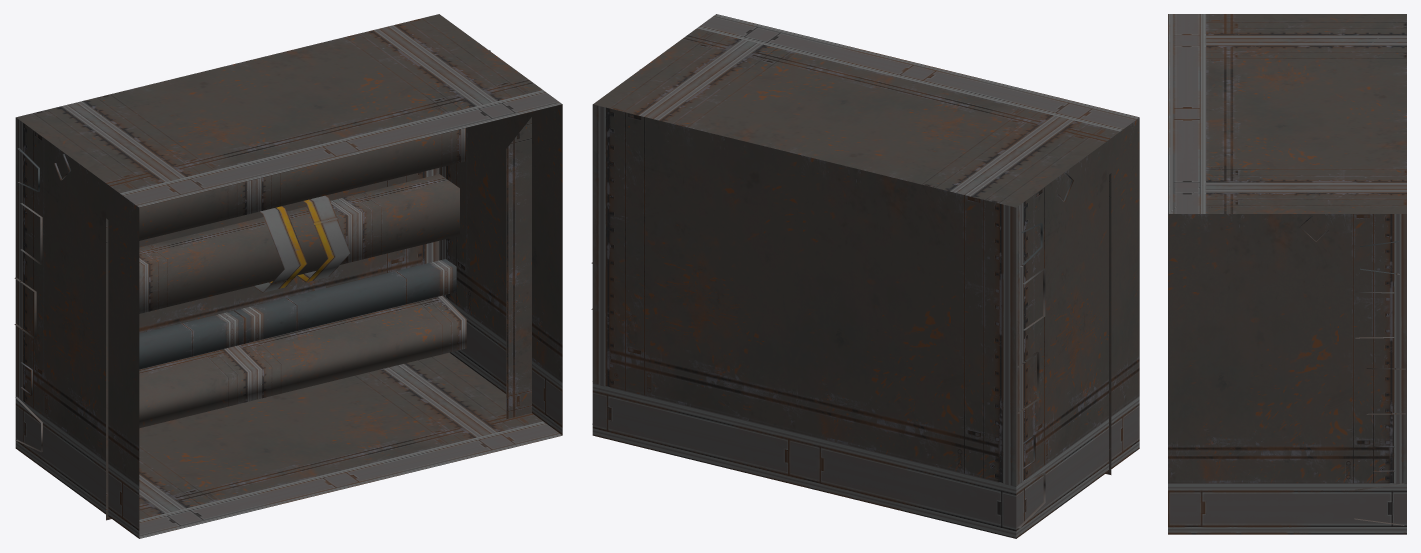
The model's file is Wall_grid_Int_L2.fbx.
3 renders of one model, left to right at view 1: azimuth 30°, elevation 25°; view 2: azimuth 150°, elevation 25°; view 3: azimuth 270°, elevation 25°, orthographic. The views are drawn at different scales.
Parts seen in each view (by area): view 1: polySurface311; view 2: polySurface311; view 3: polySurface311.
Part boxes in pixels (x1=…): polySurface311: x1=14, y1=14, x2=562, y2=538; polySurface311: x1=591, y1=14, x2=1139, y2=538; polySurface311: x1=1168, y1=14, x2=1406, y2=534.
Size of the model in its own units: 400 by 299 by 200.
